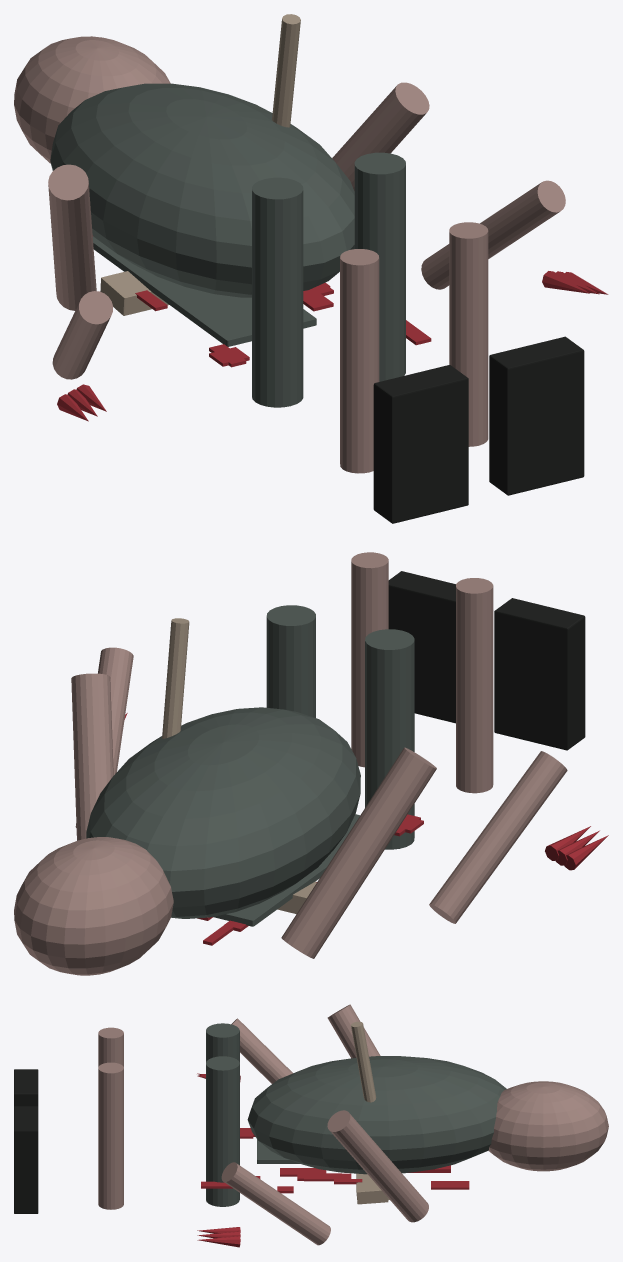
The model's file is dz_blender_brute.glb.
The picture shows the model from 3 angles, top to bottom: view 1: azimuth 30°, elevation 25°; view 2: azimuth 150°, elevation 25°; view 3: azimuth 270°, elevation 25°; orthographic projection. The views are drawn at different scales.
Parts seen in each view (by area): view 1: torso asymetrique, botte humide, botte humide.001, cuisse tissu.001, tete infectee, cuisse tissu, tibia expose, tibia expose.001, bras maigre.001, pan manteau dechire, avant bras griffe, bras maigre (+3 smaller); view 2: torso asymetrique, tete infectee, botte humide.001, bras maigre.001, tibia expose, cuisse tissu.001, botte humide, avant bras griffe.001, bras maigre, cuisse tissu, tibia expose.001, implant dorsal (+2 smaller); view 3: torso asymetrique, tete infectee, cuisse tissu, tibia expose.001, bras maigre, avant bras griffe, botte humide, avant bras griffe.001, cuisse tissu.001, implant dorsal, bras maigre.001, botte humide.001 (+5 smaller).
Part boxes in pixels (x1,y1,x2,y2): torso asymetrique: (50,83,354,297); botte humide: (489,336,584,495); botte humide.001: (373,365,468,523); cuisse tissu.001: (252,177,303,407); tete infectee: (14,36,170,163); cuisse tissu: (354,152,405,381); tibia expose: (340,249,379,473); tibia expose.001: (449,222,488,446); bras maigre.001: (48,164,96,310); pan manteau dechire: (92,236,316,346); avant bras griffe: (421,180,565,289); bras maigre: (332,82,429,190); torso asymetrique: (86,707,360,918); tete infectee: (14,837,173,975); botte humide.001: (494,598,585,750); bras maigre.001: (281,747,436,958); tibia expose: (456,578,493,793); cuisse tissu.001: (365,629,414,849); botte humide: (388,571,455,723); avant bras griffe.001: (429,751,567,923); bras maigre: (71,673,113,840); cuisse tissu: (266,605,315,717); tibia expose.001: (351,552,388,767); implant dorsal: (162,618,189,738); torso asymetrique: (247,1056,506,1174); tete infectee: (488,1081,608,1171); cuisse tissu: (206,1056,239,1206); tibia expose.001: (98,1062,123,1209); bras maigre: (327,1110,428,1222); avant bras griffe: (221,1162,330,1245); botte humide: (14,1106,38,1213); avant bras griffe.001: (231,1018,292,1083); cuisse tissu.001: (206,1023,239,1062); implant dorsal: (351,1021,389,1200); bras maigre.001: (327,1004,380,1058); botte humide.001: (14,1069,38,1106).
Bounding box in the file's own units: 2.03 × 1.05 × 3.06.
